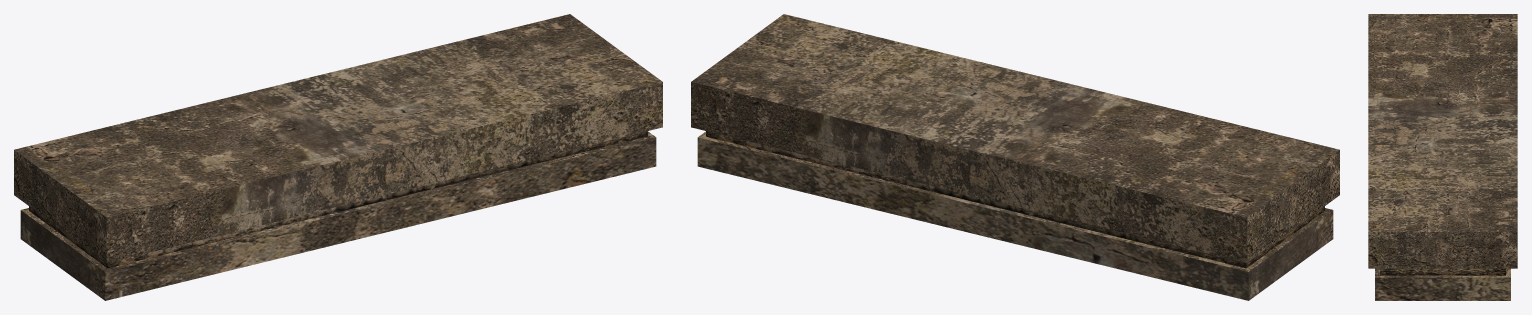
File: materials_5_stonestick_short_5.fbx
The picture shows the model from 3 angles, left to right: view 1: azimuth 30°, elevation 25°; view 2: azimuth 150°, elevation 25°; view 3: azimuth 270°, elevation 25°; orthographic projection. The views are drawn at different scales.
Parts seen in each view (by area): view 1: materials_5_stonestick_short_5; view 2: materials_5_stonestick_short_5; view 3: materials_5_stonestick_short_5.
Boxes of the visible parts, x1,y1,x2,y2 form: materials_5_stonestick_short_5: (14,14,662,300); materials_5_stonestick_short_5: (691,14,1339,300); materials_5_stonestick_short_5: (1368,14,1517,300).
Size of the model in its own units: 137 by 20.41 by 39.5.
